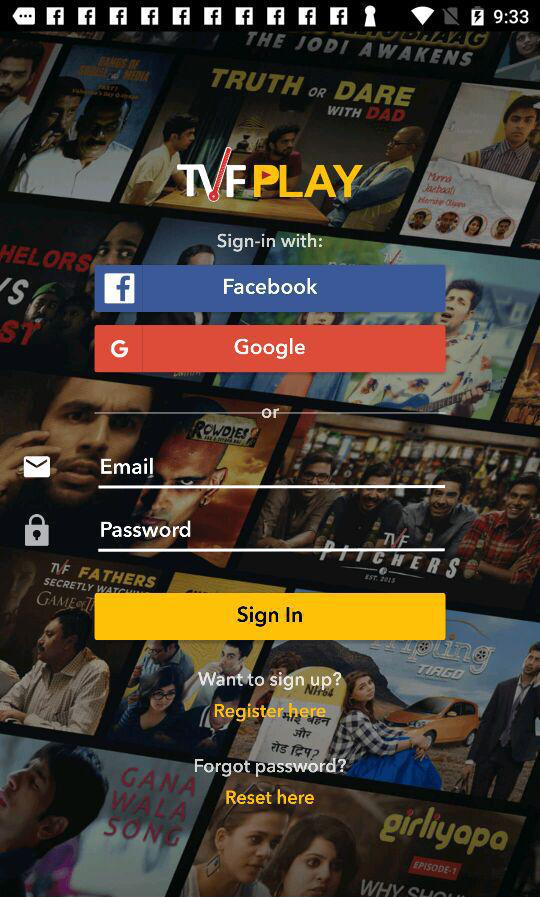BackgroundImage: (1, 32, 540, 897)
EditText: (98, 520, 446, 553), (98, 458, 446, 489)
Icon: (25, 514, 51, 547), (24, 456, 52, 479)
Image: (177, 147, 364, 203)
Text: (195, 757, 347, 778), (197, 671, 342, 691), (214, 702, 327, 723), (216, 233, 324, 254), (101, 520, 192, 538), (225, 788, 315, 806), (101, 458, 155, 476), (259, 404, 281, 420)
TextButton: (95, 325, 446, 373), (95, 593, 446, 641), (95, 265, 445, 313)
UpperTaskBar: (1, 1, 540, 33)
